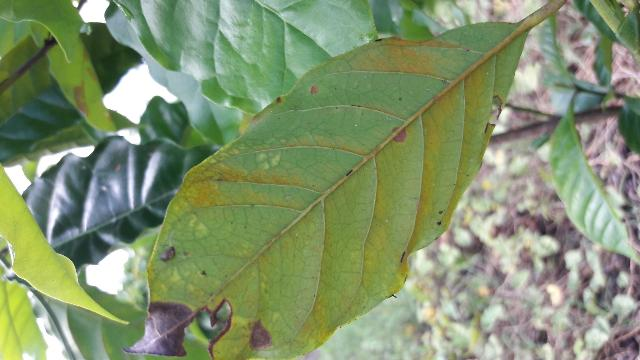red_spider_mite: (129, 22, 522, 359)
